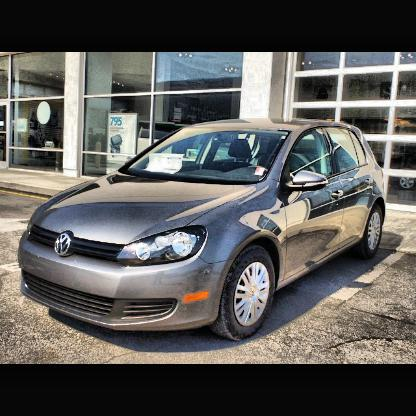Volkswagen Golf Hatchback 2012: (18, 120, 382, 342)
